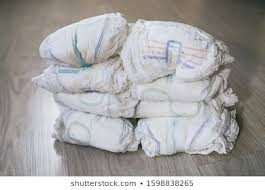paper: (123, 16, 237, 84), (130, 113, 245, 161), (35, 11, 133, 67), (126, 78, 246, 115), (50, 108, 135, 157), (31, 61, 131, 96), (46, 86, 139, 121)
